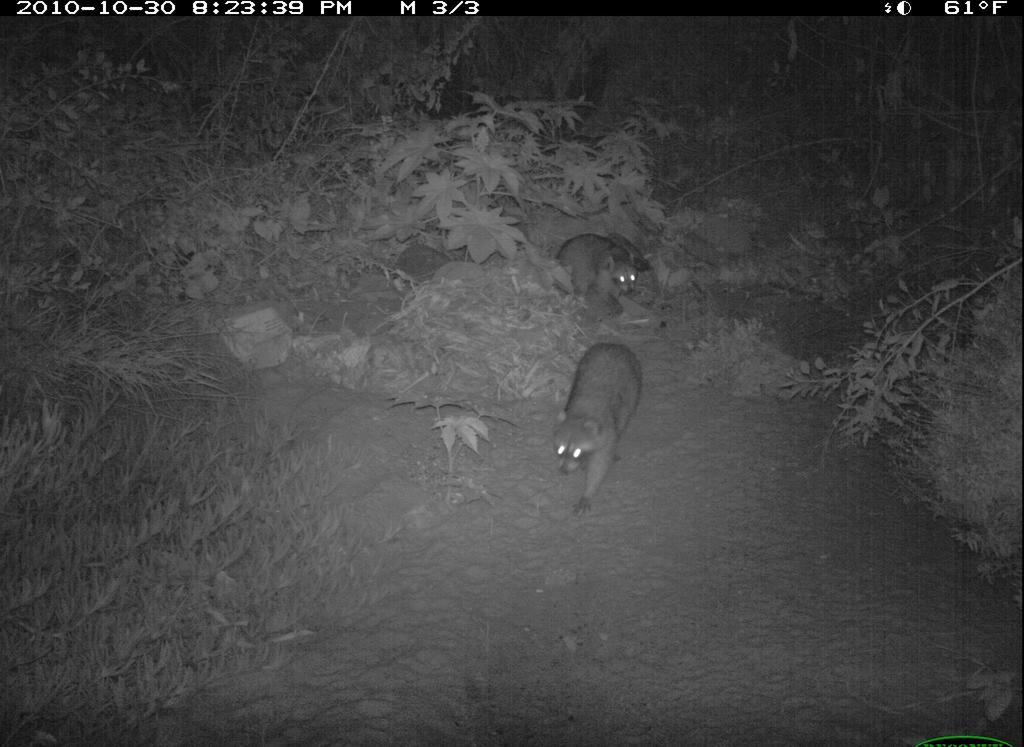raccoon: (537, 336, 658, 527), (550, 227, 664, 319)
